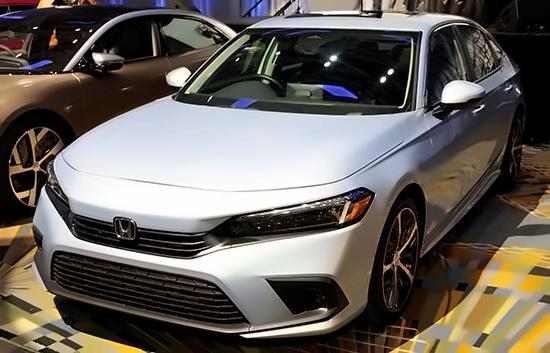Car hood: (48, 96, 415, 231)
Fender - -F-L-: (363, 109, 436, 265), (1, 71, 86, 144)
Front bumper: (32, 183, 378, 343)
Headlight - -L-: (204, 186, 377, 249)
Headlight - -R-: (43, 157, 74, 232)
Passenger-s door - -F-L-: (416, 11, 485, 267), (67, 5, 173, 128)
Passenger-s door - -R-L-: (452, 7, 522, 213), (151, 7, 223, 96)
Side bumper - -L-: (419, 156, 511, 293)
Side mirror - -L-: (430, 78, 485, 123), (71, 46, 126, 79)
Side mirror - -R-: (162, 66, 193, 92)
